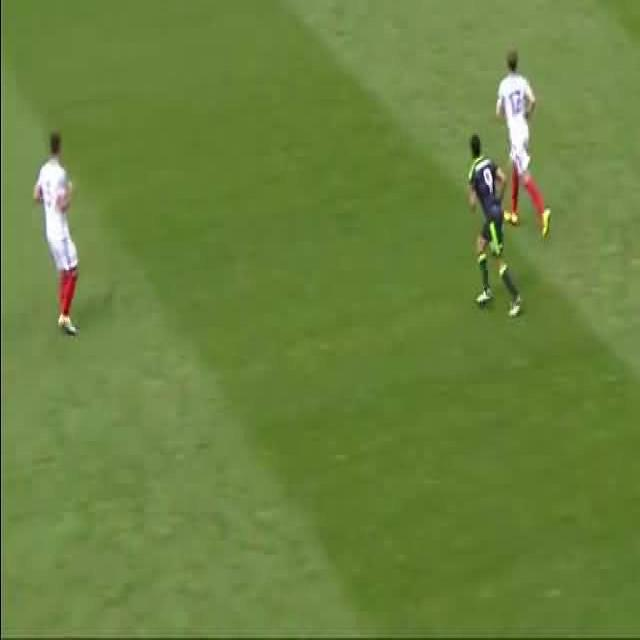player-white: (465, 133, 523, 320), (495, 49, 551, 241), (33, 132, 81, 334)
